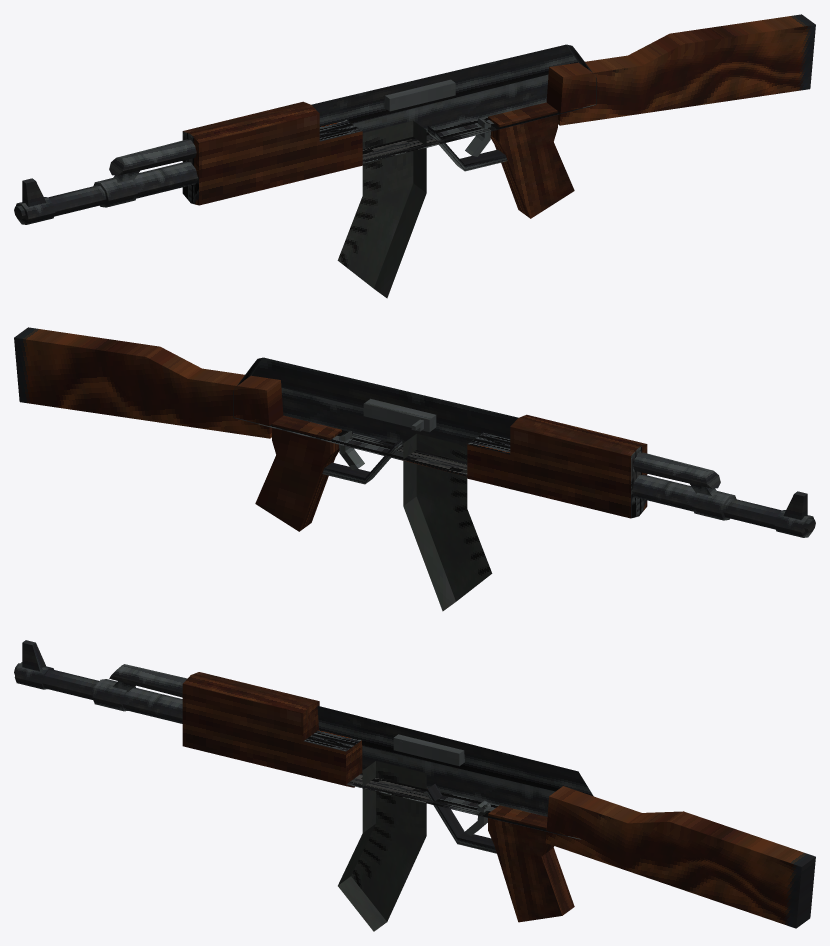
3 views of the same model, one above another, from view 1: azimuth 30°, elevation 25°; view 2: azimuth 150°, elevation 25°; view 3: azimuth 330°, elevation 25° (orthographic).
Visible parts, largest first — view 1: ak; view 2: ak; view 3: ak.
Part boxes in pixels (x1=…): ak: x1=14, y1=14, x2=815, y2=298; ak: x1=14, y1=327, x2=815, y2=611; ak: x1=14, y1=640, x2=815, y2=931.
Size of the model in its own units: 1.93 by 0.4806 by 0.1072.
Materials: 1 (1 with a texture image).
